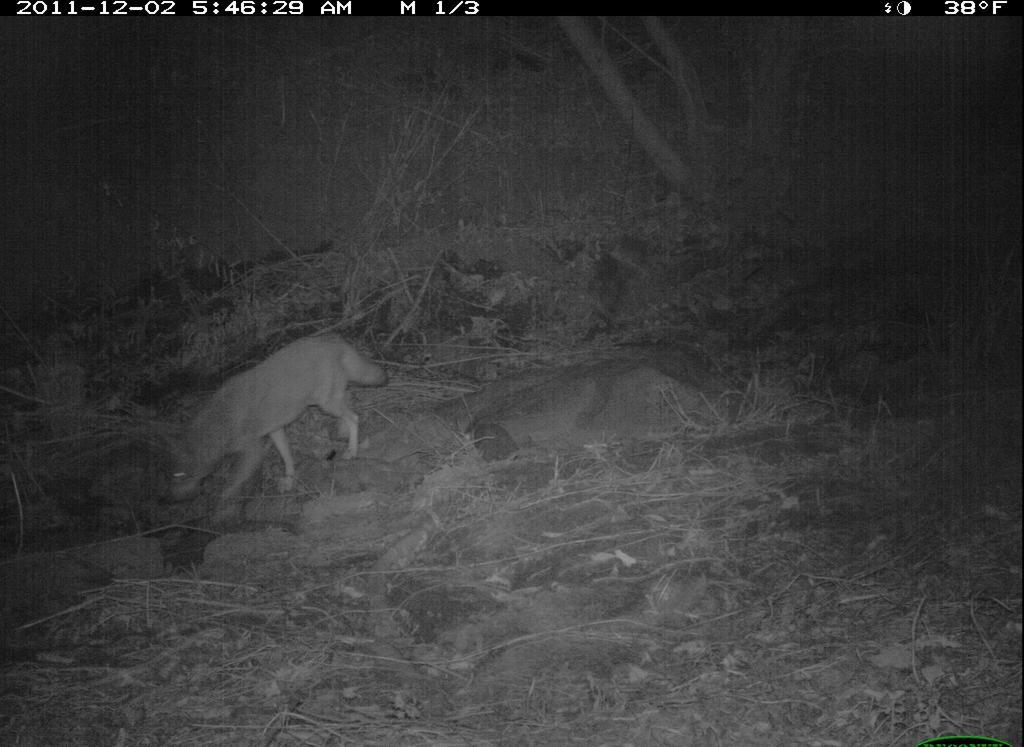coyote: (137, 322, 400, 527)
